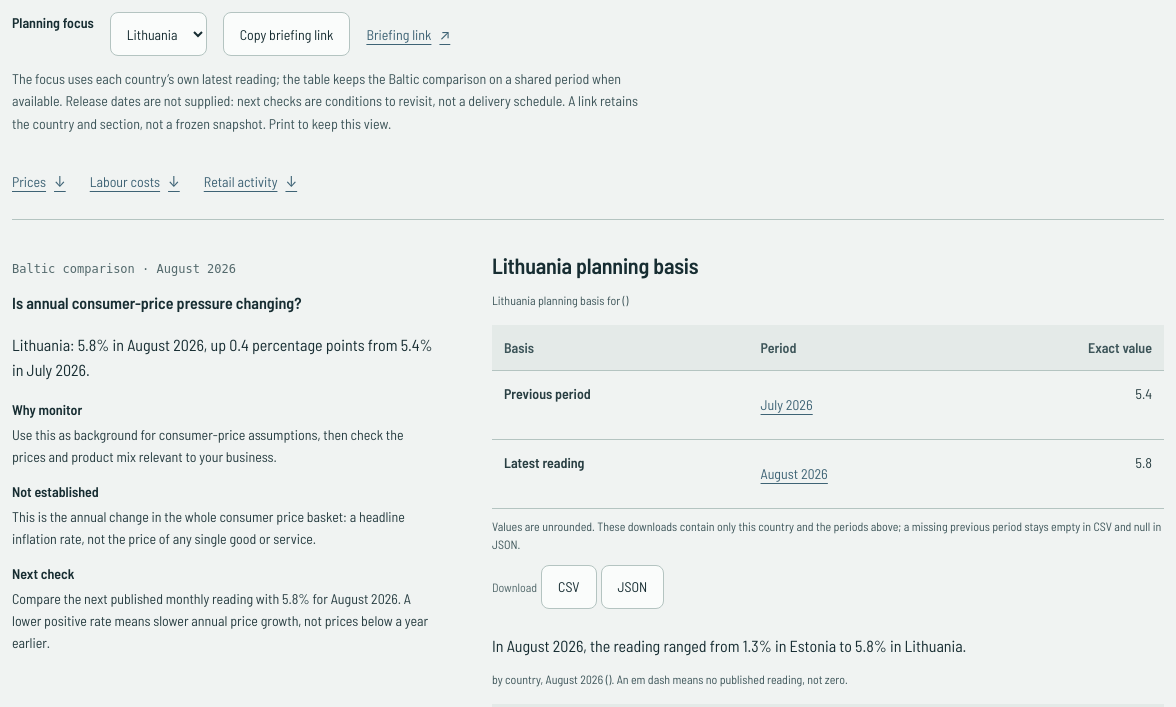
Test case: a briefing used as a planning document › offers an actual fallback address if clipboard access fails
Click the button "Copy briefing link" at x=287, y=34, box [223, 12, 350, 56]
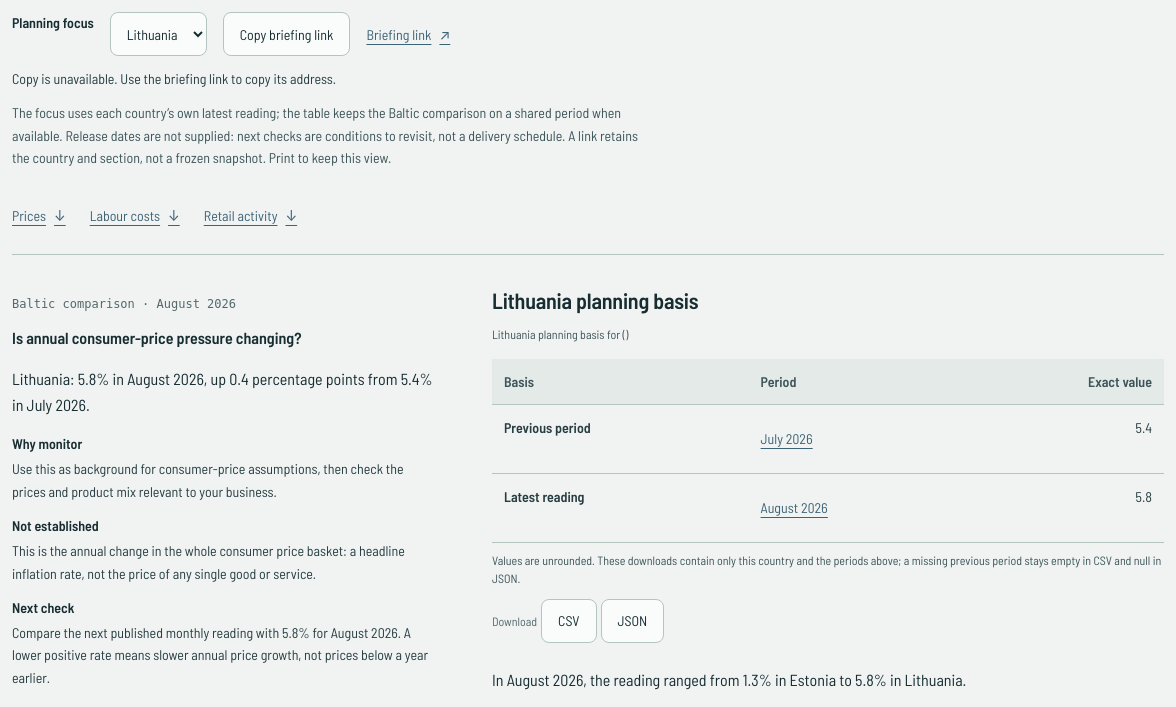
expect the text "Copy is unavailable. Use the briefing link to copy its address." is shown: met, box [12, 70, 336, 87]
